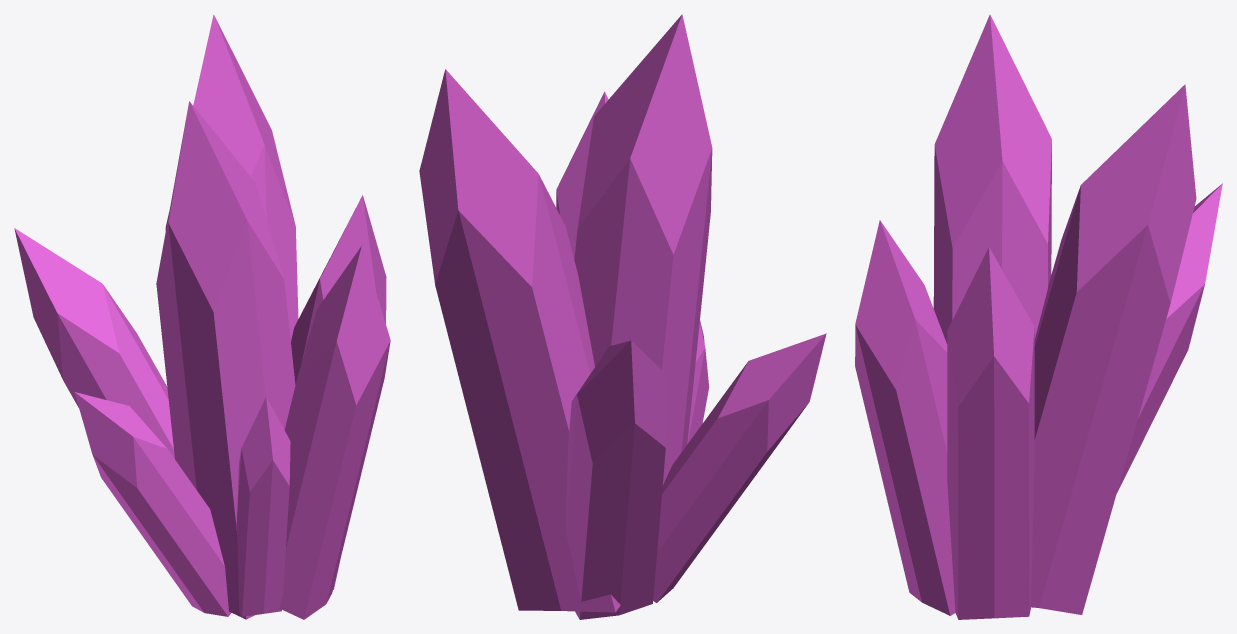
Rendered from crystal.fbx.
3 renders of one model, left to right at view 1: azimuth 30°, elevation 25°; view 2: azimuth 150°, elevation 25°; view 3: azimuth 270°, elevation 25°, orthographic. The views are drawn at different scales.
Visible parts, largest first — view 1: Cube; view 2: Cube; view 3: Cube.
Part boxes in pixels (x1,y1,x2,y2): Cube: [14, 14, 390, 619]; Cube: [419, 14, 826, 619]; Cube: [855, 14, 1222, 619].
Size of the model in its own units: 89.7 by 139 by 84.36.
